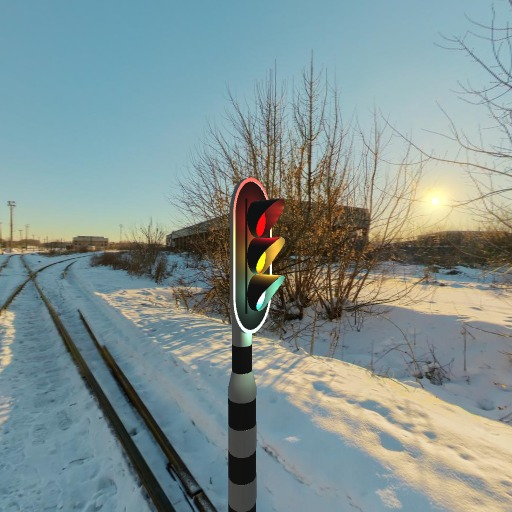All_Light: (230, 176, 288, 337)
